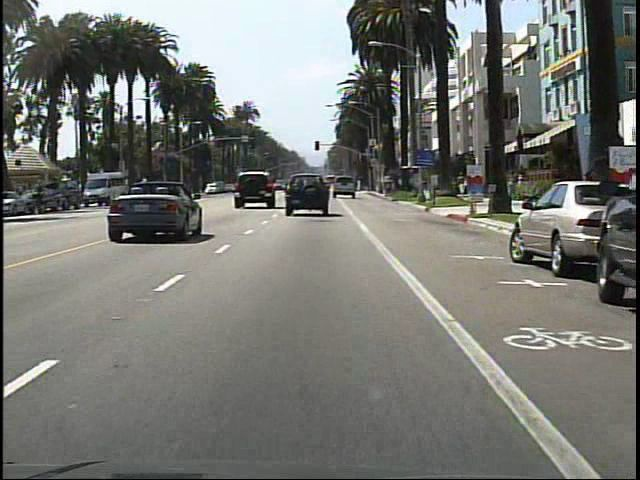person: (35, 177, 50, 217)
